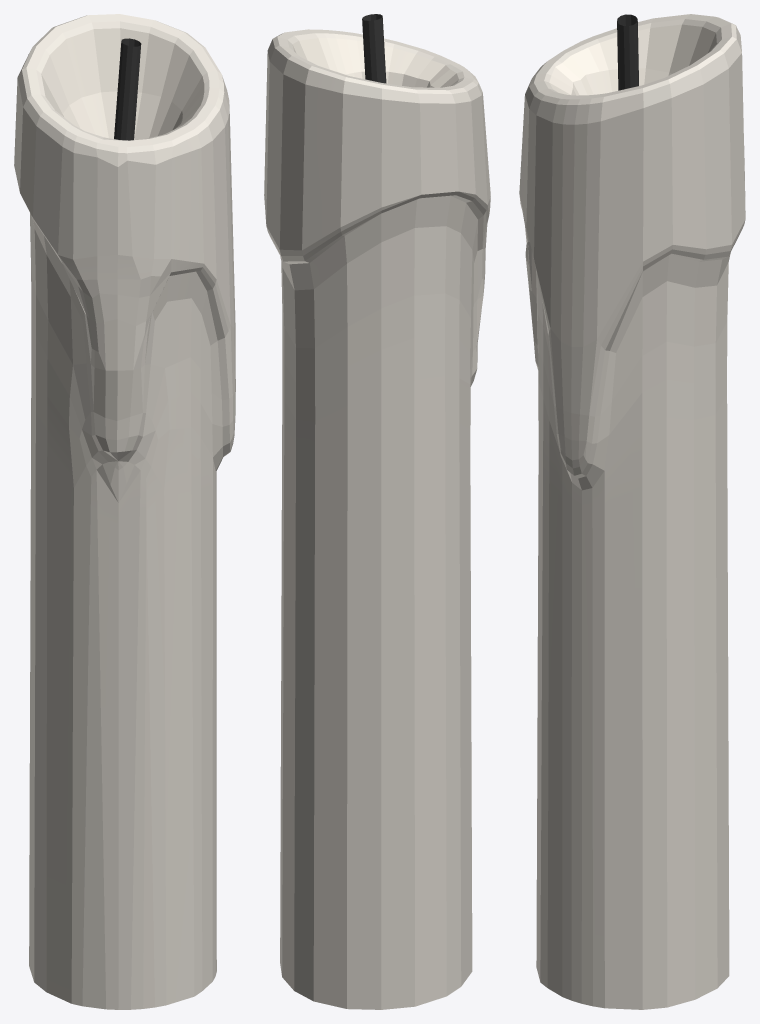
File: Candle.fbx
3 views of the same model, side by side, from view 1: azimuth 30°, elevation 25°; view 2: azimuth 150°, elevation 25°; view 3: azimuth 270°, elevation 25° (orthographic). The views are drawn at different scales.
Parts seen in each view (by area): view 1: polySurface5; view 2: polySurface5; view 3: polySurface5.
Part boxes in pixels (bbox=[...]): polySurface5: bbox=[14, 14, 235, 1009]; polySurface5: bbox=[264, 14, 490, 1009]; polySurface5: bbox=[519, 14, 745, 1009].
Bounding box in the file's own units: 0.0802 × 0.3768 × 0.0811.
